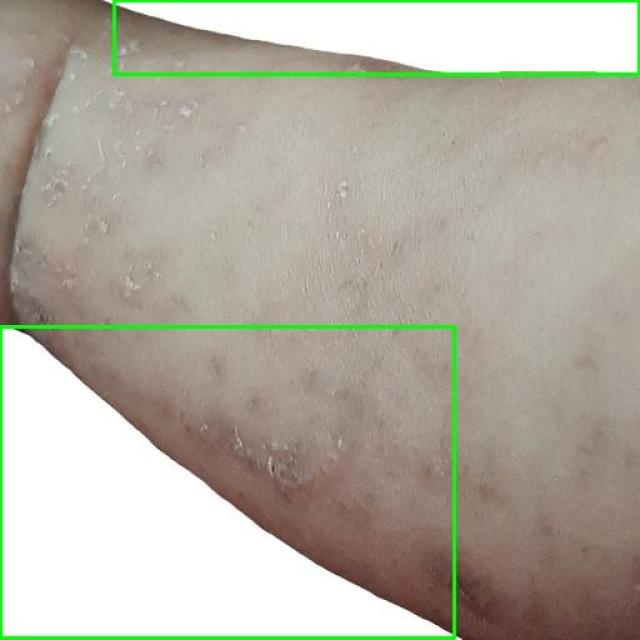Scabies: (0, 328, 455, 639), (114, 0, 639, 74)
